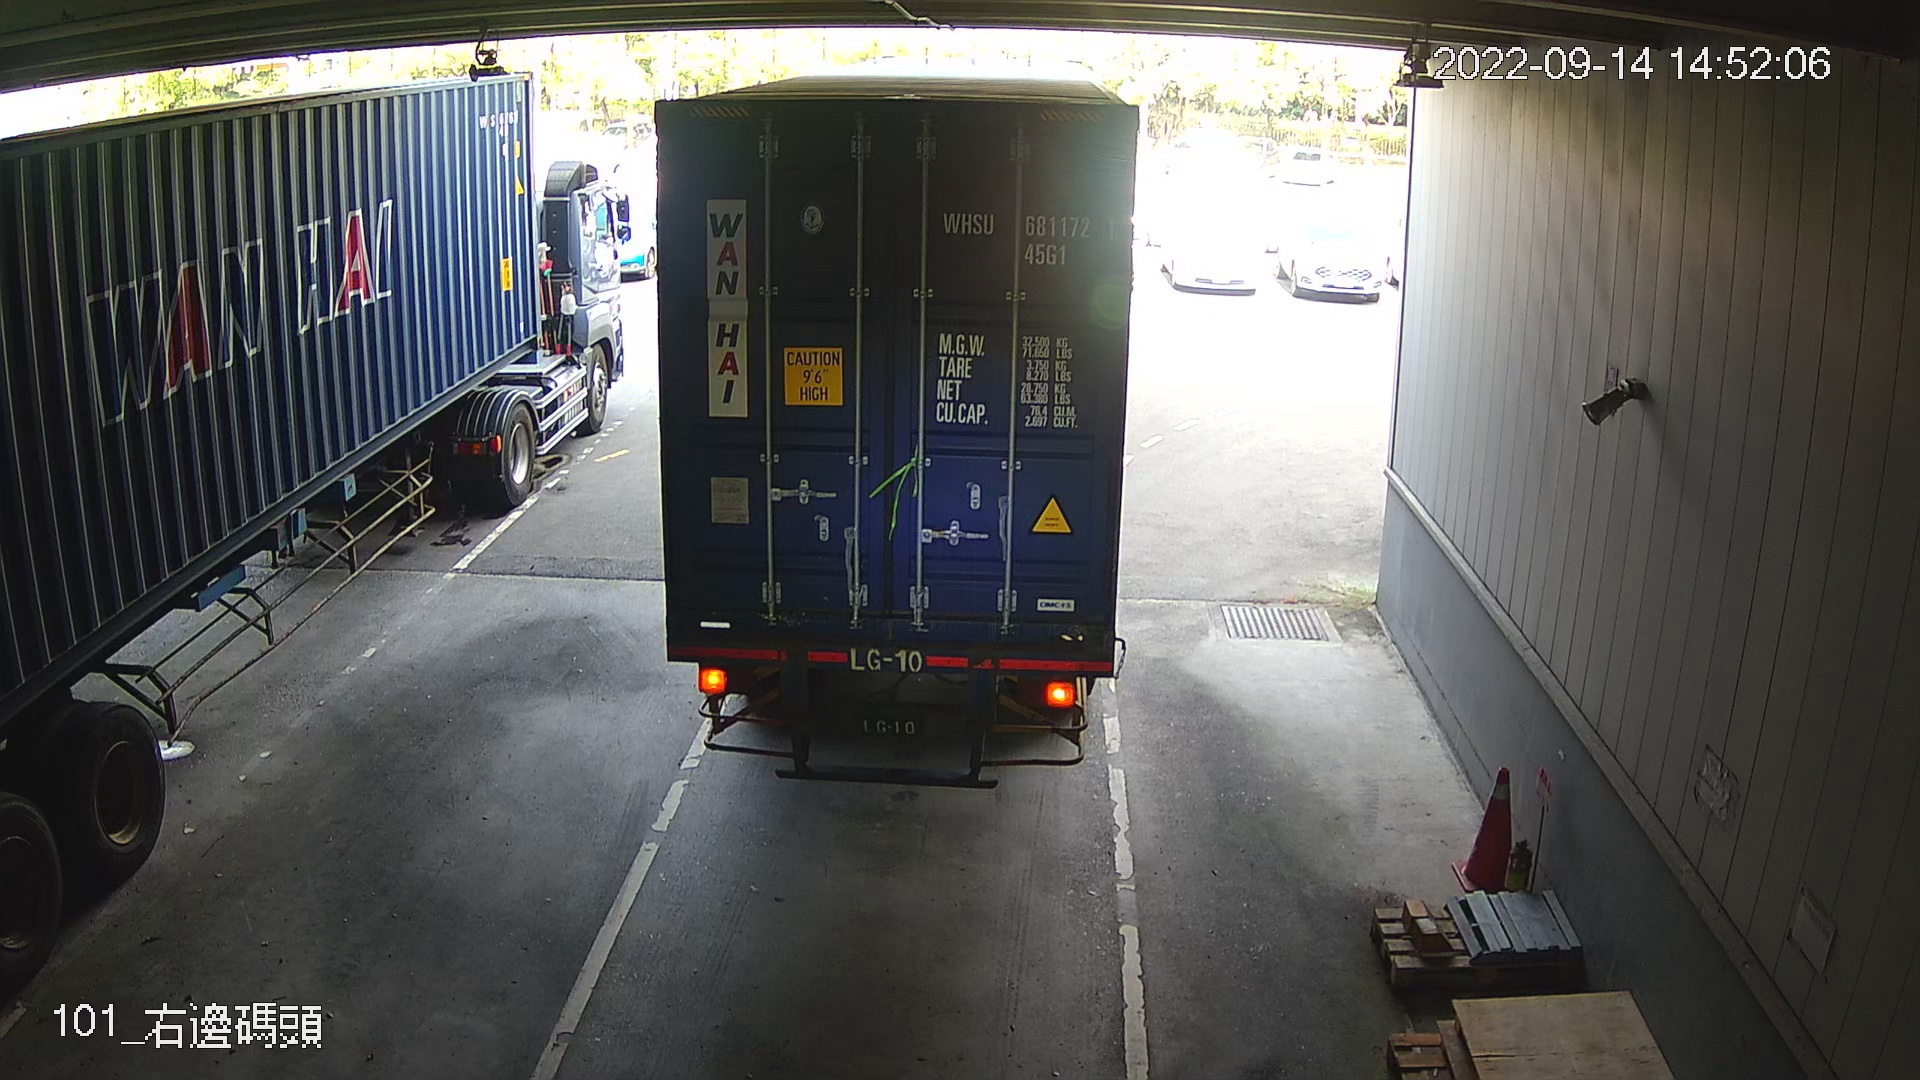container: (934, 200, 1120, 273)
